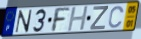3: (32, 8, 47, 34)
C: (107, 5, 125, 29)
F: (51, 7, 71, 34)
H: (66, 5, 90, 33)
N: (14, 9, 33, 34)
Z: (89, 5, 109, 31)
